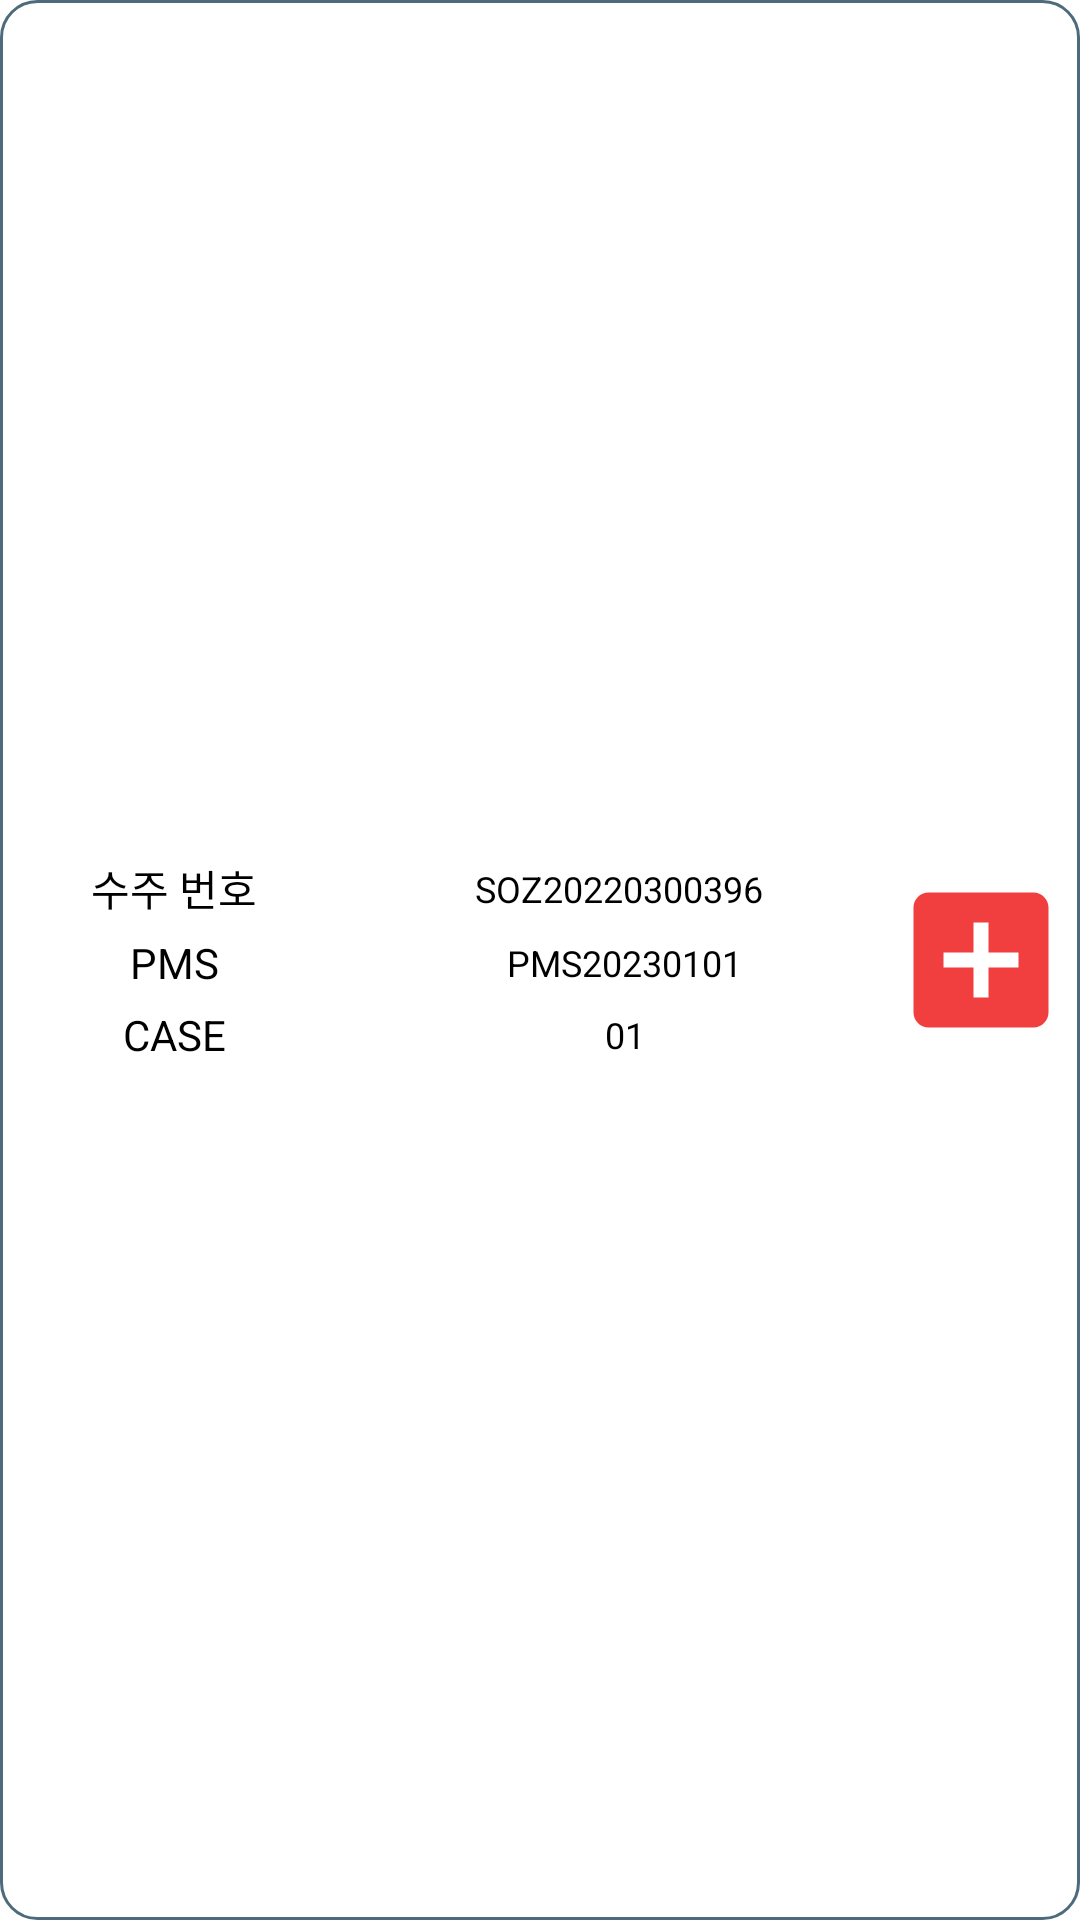

Where to tap for icons on this 1080px x 1920px app screen, as [x,y]:
add box: [981,960]
